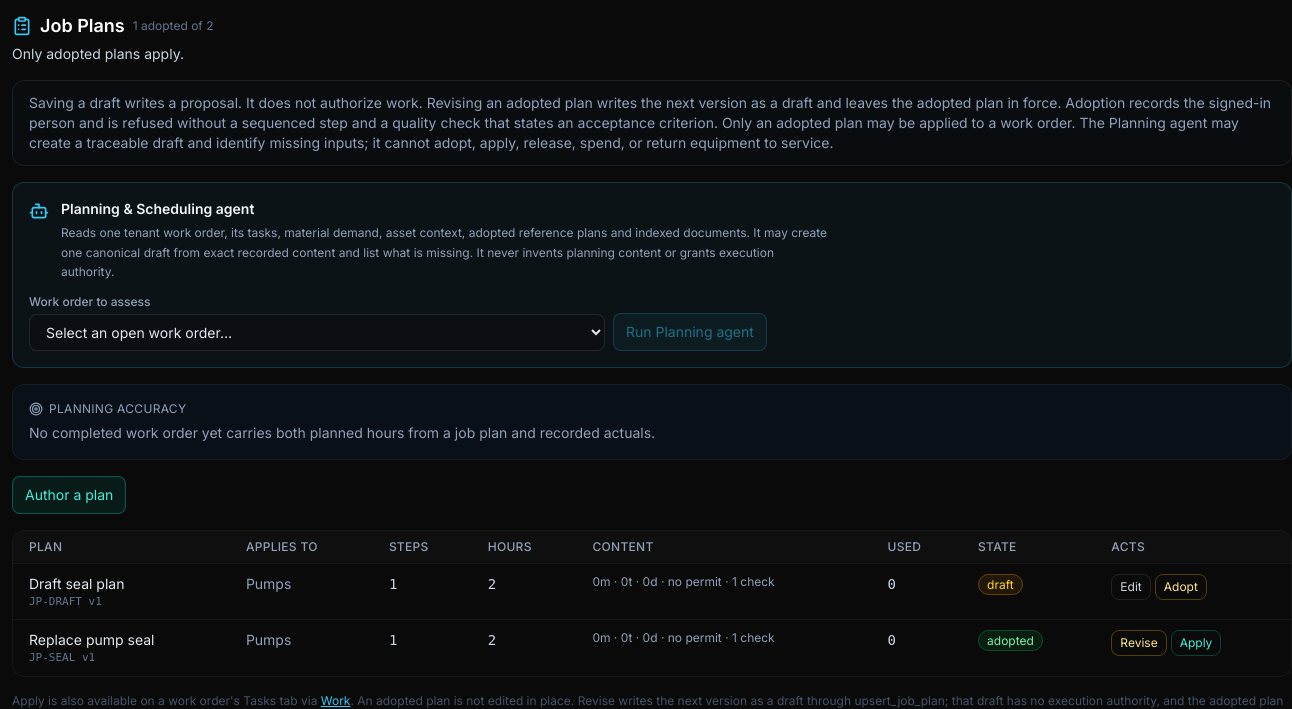
Scenario: JobPlans authoring surface › applies an adopted plan through applyJobPlan and does not offer Apply on a draft
Check: the text "Replace pump seal" is shown, box x1=29 y1=631 x2=154 y2=648
Click the button "Apply". click: (1196, 643)
box: x1=1171 y1=630 x2=1221 y2=656
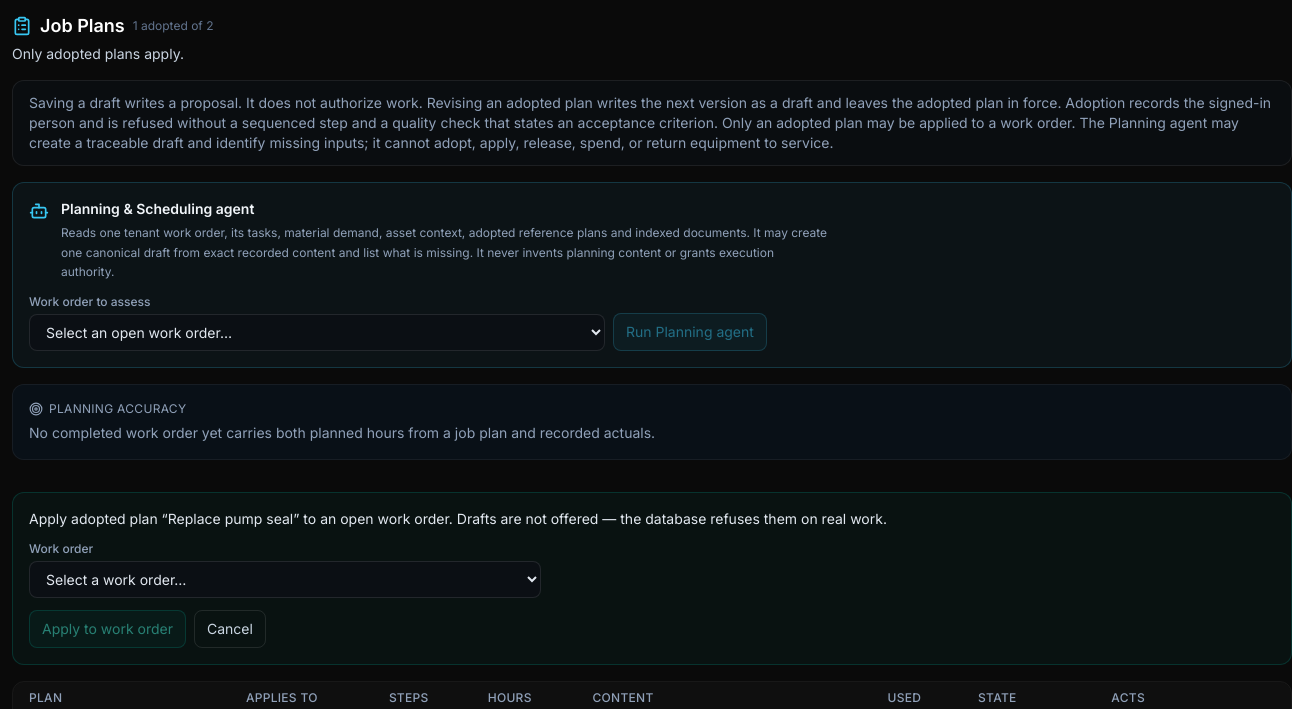
Select "WO-100 — Pump leak" in the dropdown named "Work order to apply plan". click: (285, 579)
box: x1=29 y1=560 x2=541 y2=598
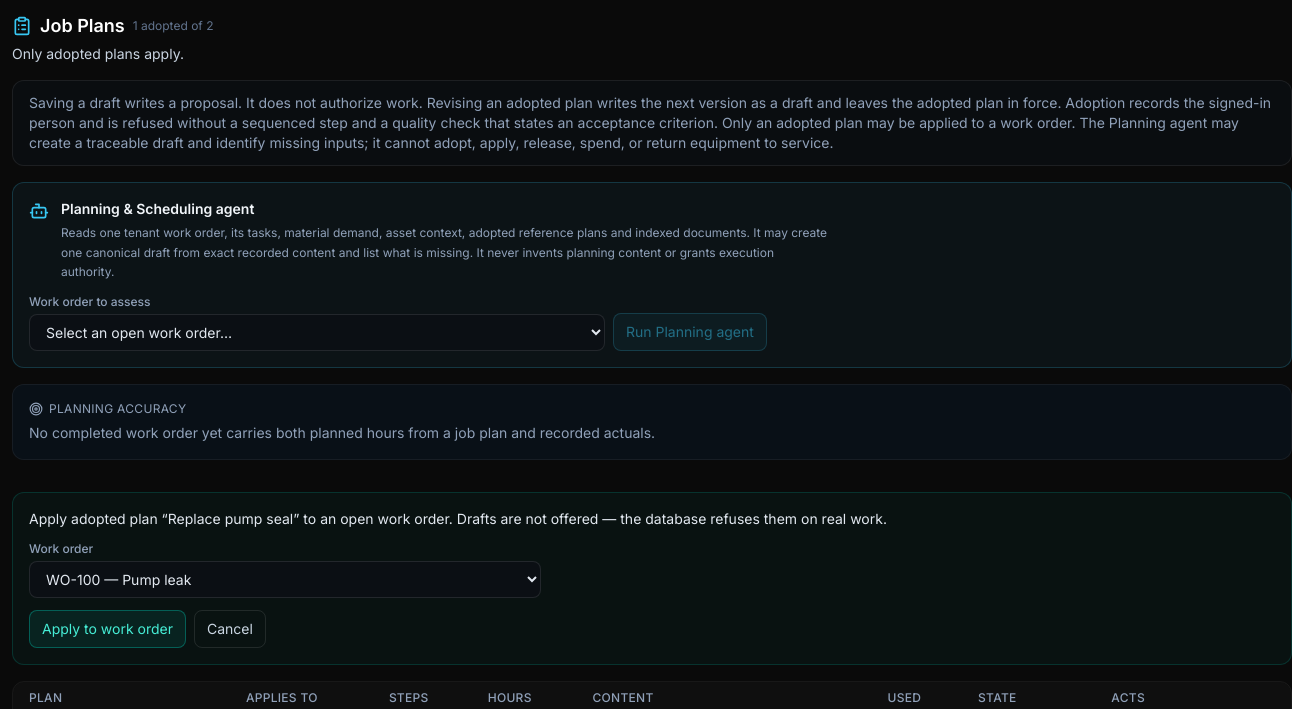
Click the button "Apply to work order". click: (108, 628)
box: x1=29 y1=610 x2=186 y2=648
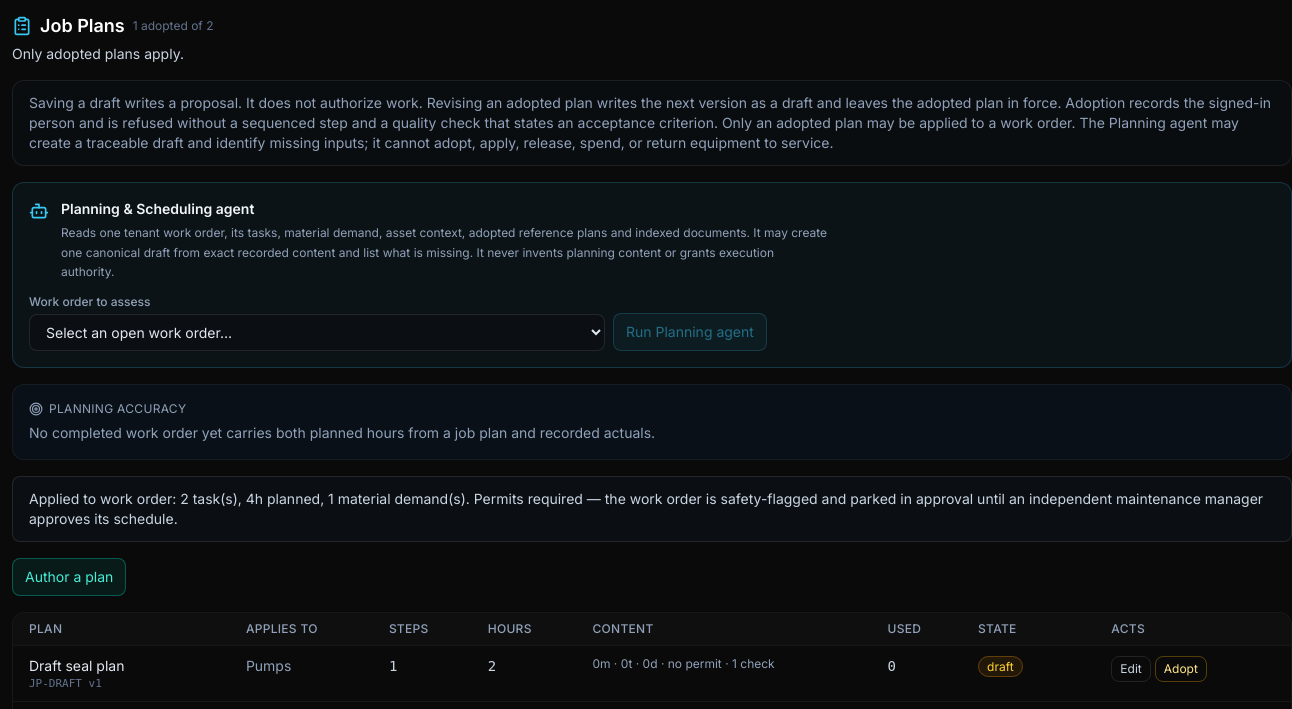
Check: the text "parked in approval" is shown, box x1=29 y1=490 x2=1263 y2=526
